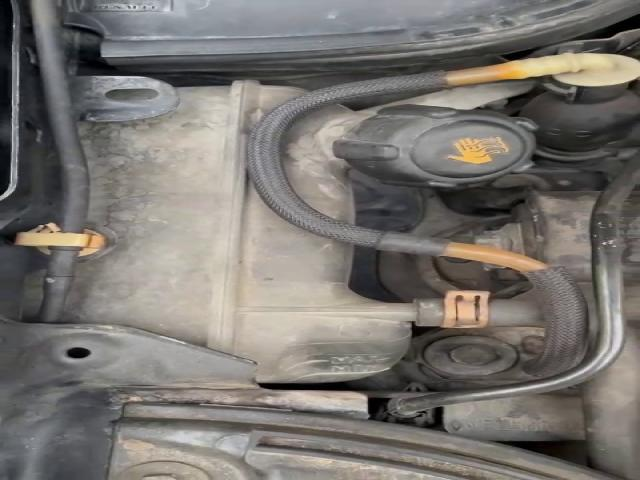antifreeze_tank: (71, 82, 415, 382), (287, 105, 537, 222)
